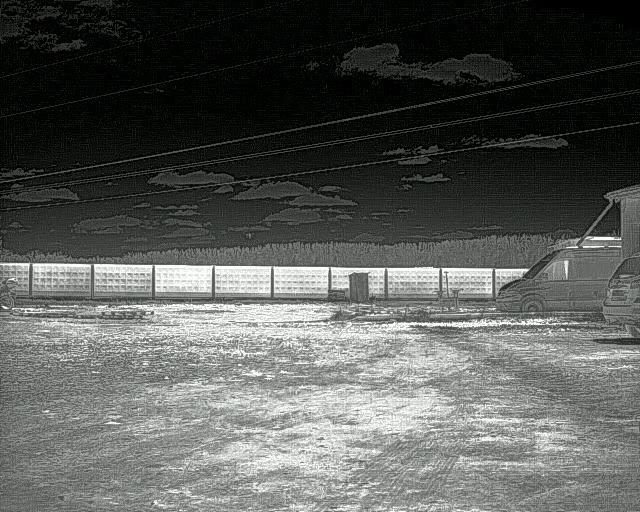ufo-thermal: (244, 231, 256, 240)
